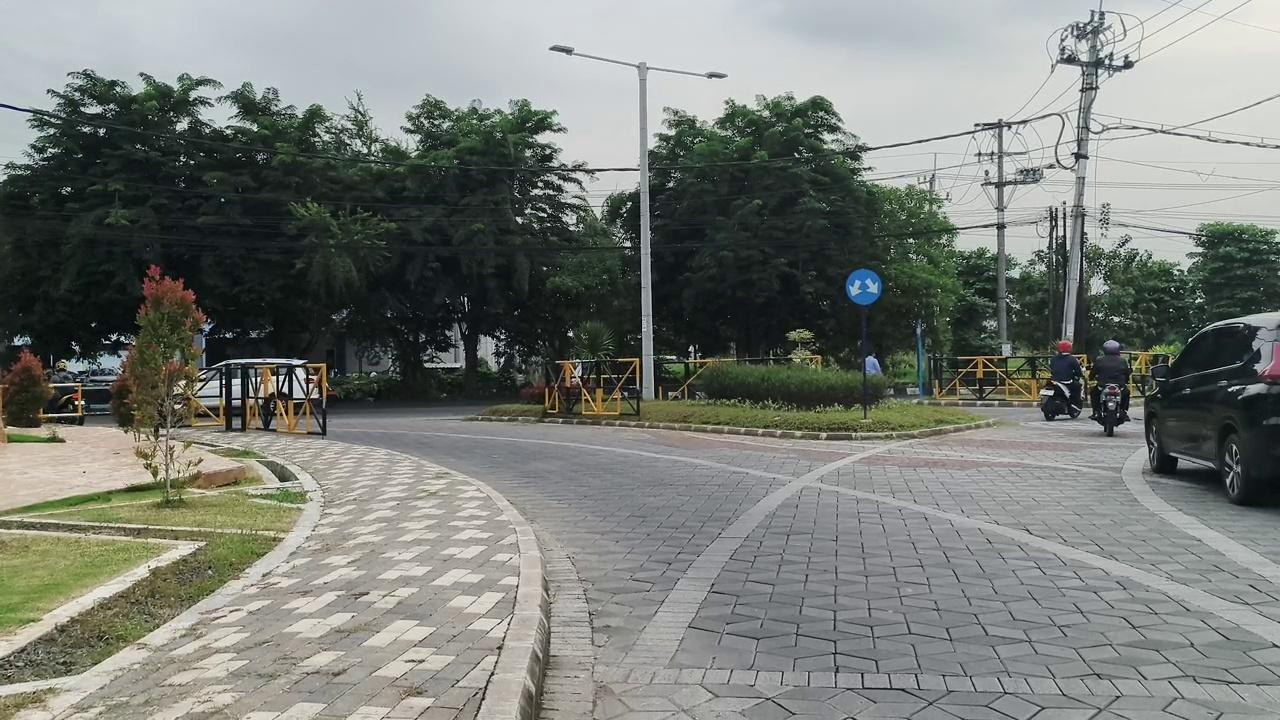Helmet: (1090, 340, 1131, 419), (1049, 340, 1083, 406)
Motor: (1040, 380, 1081, 420), (43, 385, 84, 424), (1096, 384, 1126, 436)
